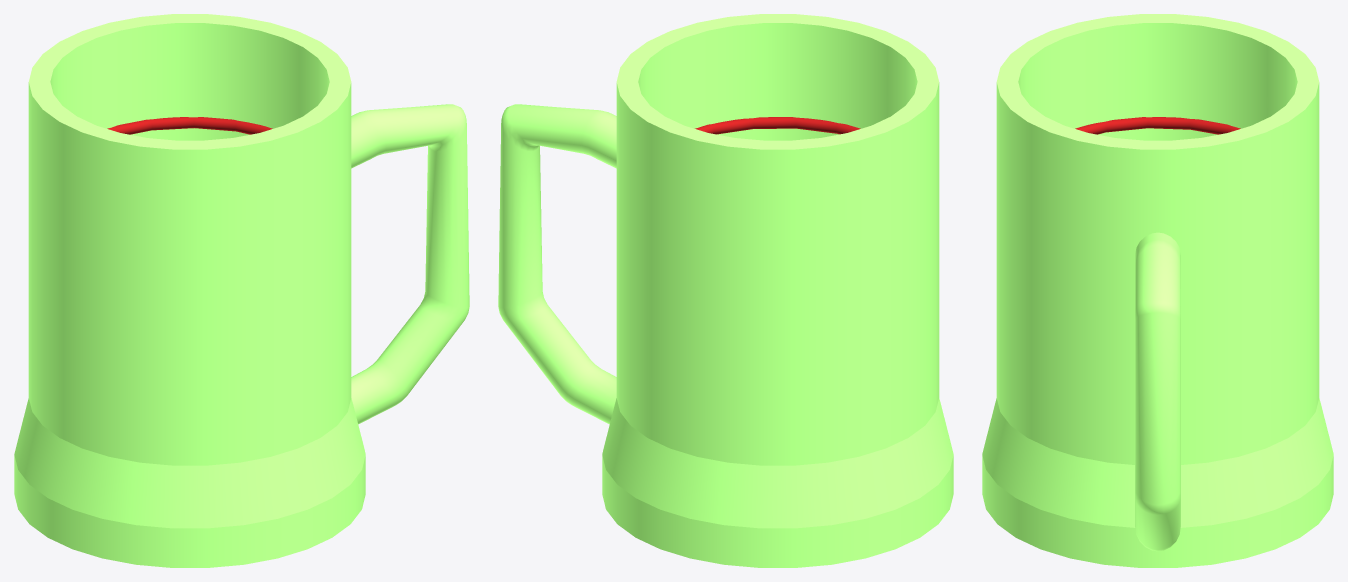
Rendered from mug_2.fbx.
3 views of the same model, side by side, from view 1: azimuth 30°, elevation 25°; view 2: azimuth 150°, elevation 25°; view 3: azimuth 270°, elevation 25° (orthographic).
Parts seen in each view (by area): view 1: MUG_02; view 2: MUG_02; view 3: MUG_02.
Part boxes in pixels (bbox=[...]): MUG_02: bbox=[14, 14, 469, 567]; MUG_02: bbox=[498, 14, 953, 567]; MUG_02: bbox=[982, 14, 1333, 567].
Bounding box in the file's own units: 22503 × 20709 × 16000.
